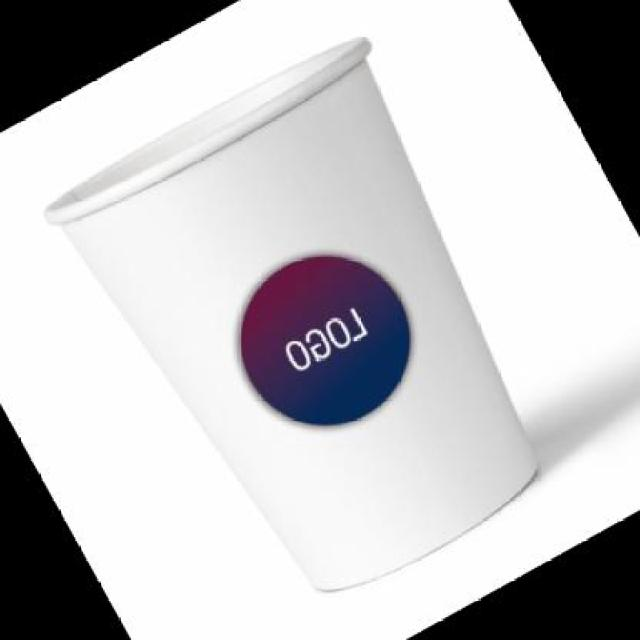non-biodegradable: (12, 14, 614, 640)
